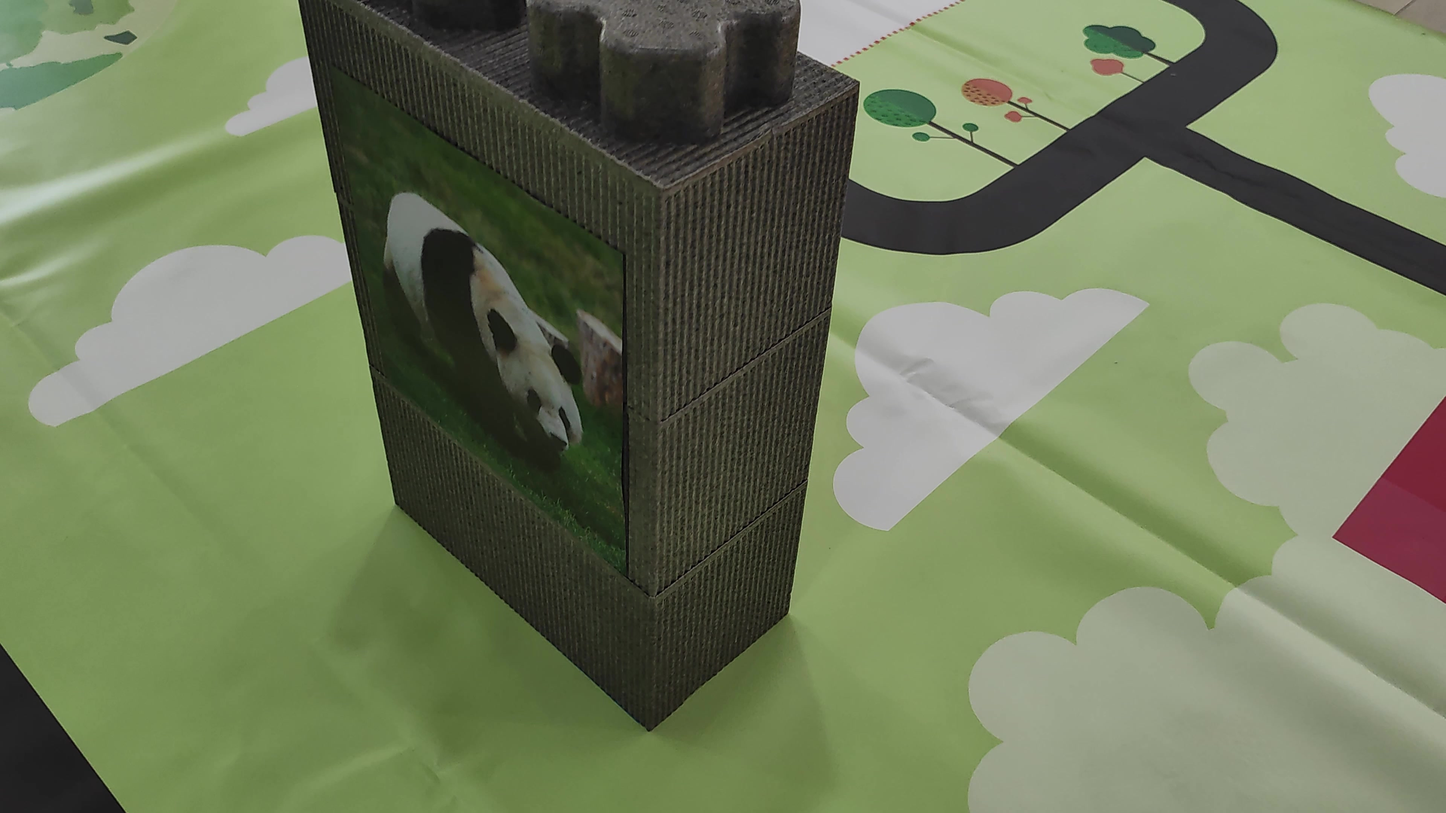panda: (360, 180, 606, 475)
